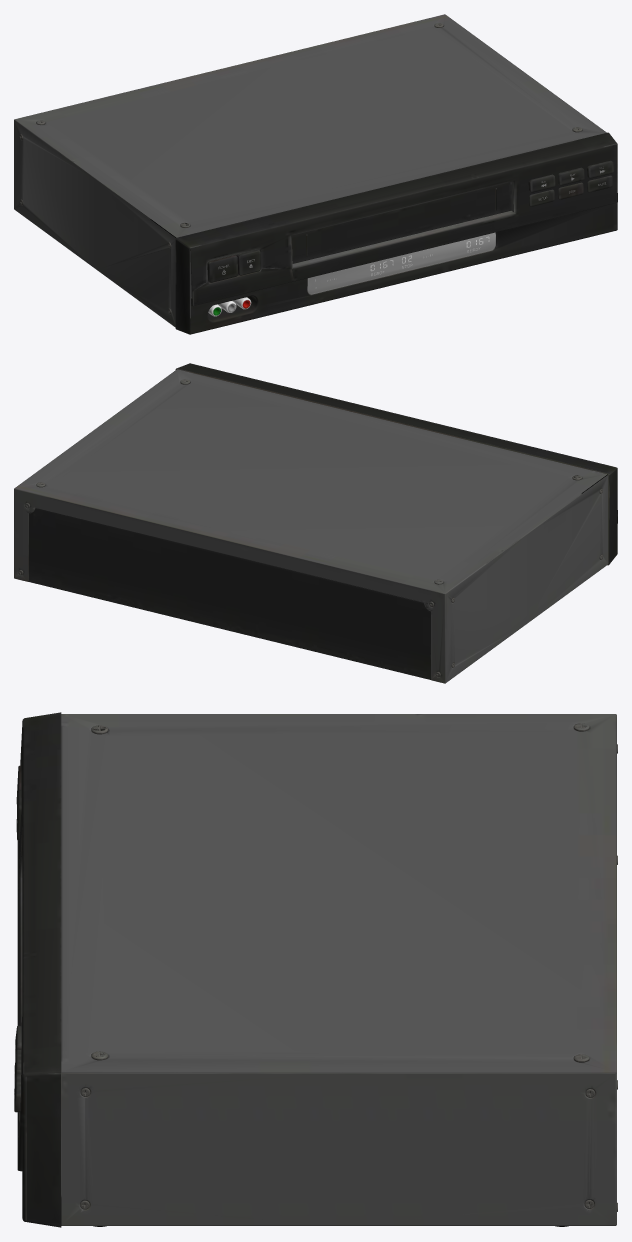
Rendered from vhs_player.glb.
3 views of the same model, one above another, from view 1: azimuth 30°, elevation 25°; view 2: azimuth 150°, elevation 25°; view 3: azimuth 270°, elevation 25° (orthographic). The views are drawn at different scales.
Visible parts, largest first — view 1: Body_Baked_Body_Baked_0, CassetteCover_Baked_CassetteCover_Baked_0, LED_Cover_Baked_LED_Cover_Baked_0, Button_Power_Baked_Button_Power_Baked_0, Button_Power.007_Baked_Button_Power.007_Baked_0; view 2: Body_Baked_Body_Baked_0; view 3: Body_Baked_Body_Baked_0.
Boxes of the visible parts, box(x1,y1,x2,y2) form: Body_Baked_Body_Baked_0: box(14, 14, 617, 334); CassetteCover_Baked_CassetteCover_Baked_0: box(291, 182, 511, 263); LED_Cover_Baked_LED_Cover_Baked_0: box(307, 232, 495, 294); Button_Power_Baked_Button_Power_Baked_0: box(207, 255, 237, 282); Button_Power.007_Baked_Button_Power.007_Baked_0: box(237, 249, 260, 275); Body_Baked_Body_Baked_0: box(14, 363, 617, 683); Body_Baked_Body_Baked_0: box(17, 712, 617, 1227).
Size of the model in its own units: 0.3719 by 0.0814 by 0.2632.
25 materials, 24 textured.
